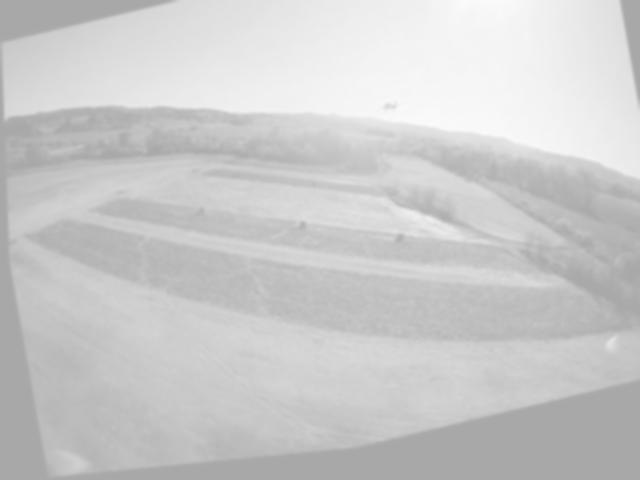hedef: (357, 90, 414, 135)
